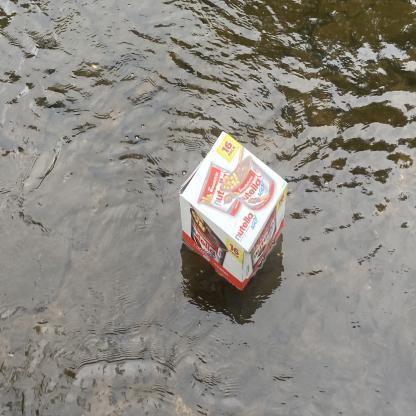trash: (175, 126, 291, 296)
